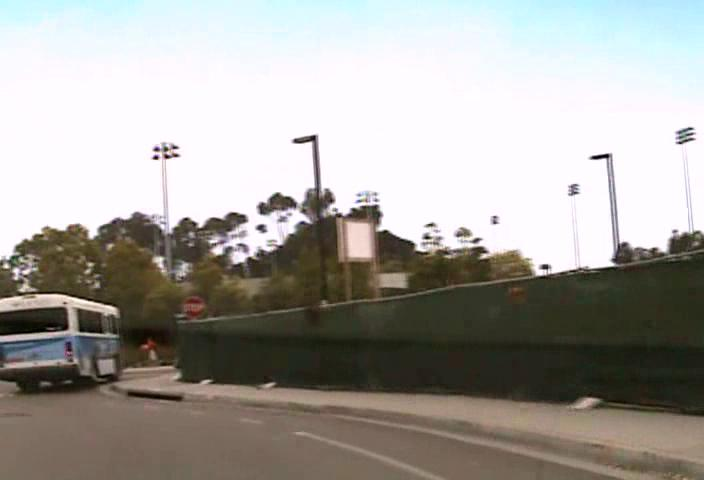stop: (181, 295, 207, 321)
